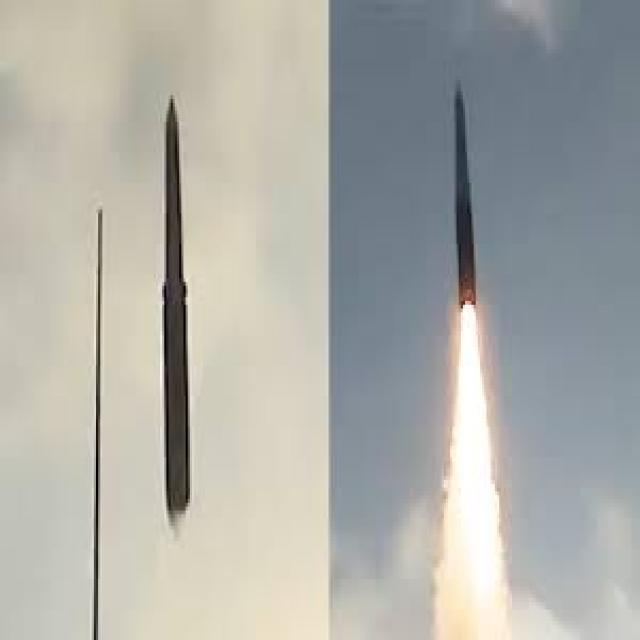Missile: (158, 93, 196, 530), (450, 76, 482, 319)
